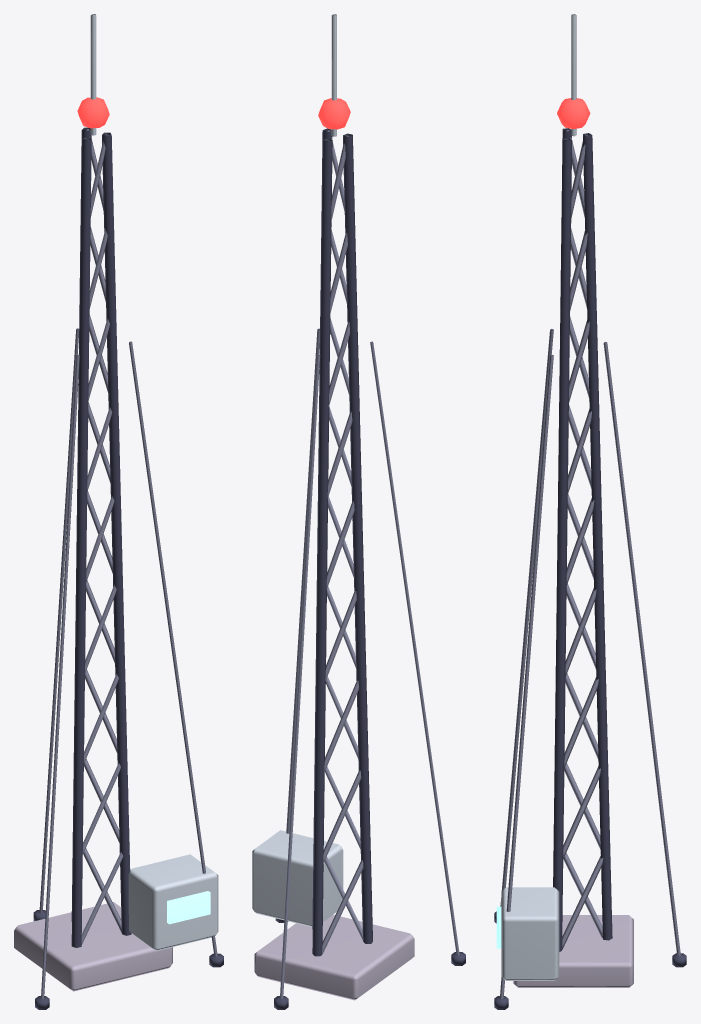
Rendered from cb_mast.glb.
3 renders of one model, left to right at view 1: azimuth 30°, elevation 25°; view 2: azimuth 150°, elevation 25°; view 3: azimuth 270°, elevation 25°, orthographic.
Parts seen in each view (by area): view 1: Mast, Lamp.001; view 2: Mast, Lamp.001; view 3: Mast, Lamp.001.
Boxes of the visible parts, x1,y1,x2,y2 form: Mast: (14,14,223,1009); Lamp.001: (77,97,109,128); Mast: (252,14,465,1009); Lamp.001: (318,98,350,129); Mast: (494,14,686,1009); Lamp.001: (557,98,590,129).
Size of the model in its own units: 0.892 by 4.35 by 0.8.
